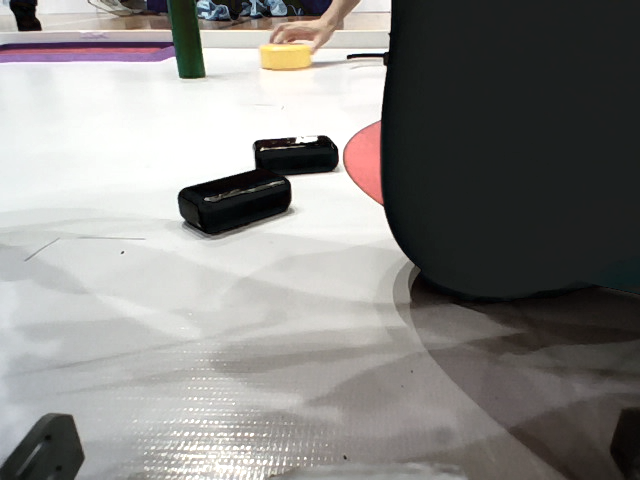black: (150, 166, 295, 241), (248, 132, 353, 177)
kuang: (1, 36, 186, 77)
yellow: (241, 37, 320, 75)
zhuzi: (159, 1, 217, 89)
